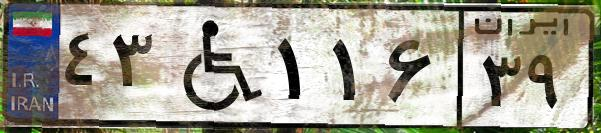1: (270, 28, 330, 110), (330, 28, 385, 110)
3: (475, 38, 525, 113), (110, 28, 158, 98)
4: (57, 26, 110, 100)
6: (385, 28, 445, 110)
9: (525, 38, 570, 115)
ژ (معلولین و جانبازان): (158, 12, 270, 120)
